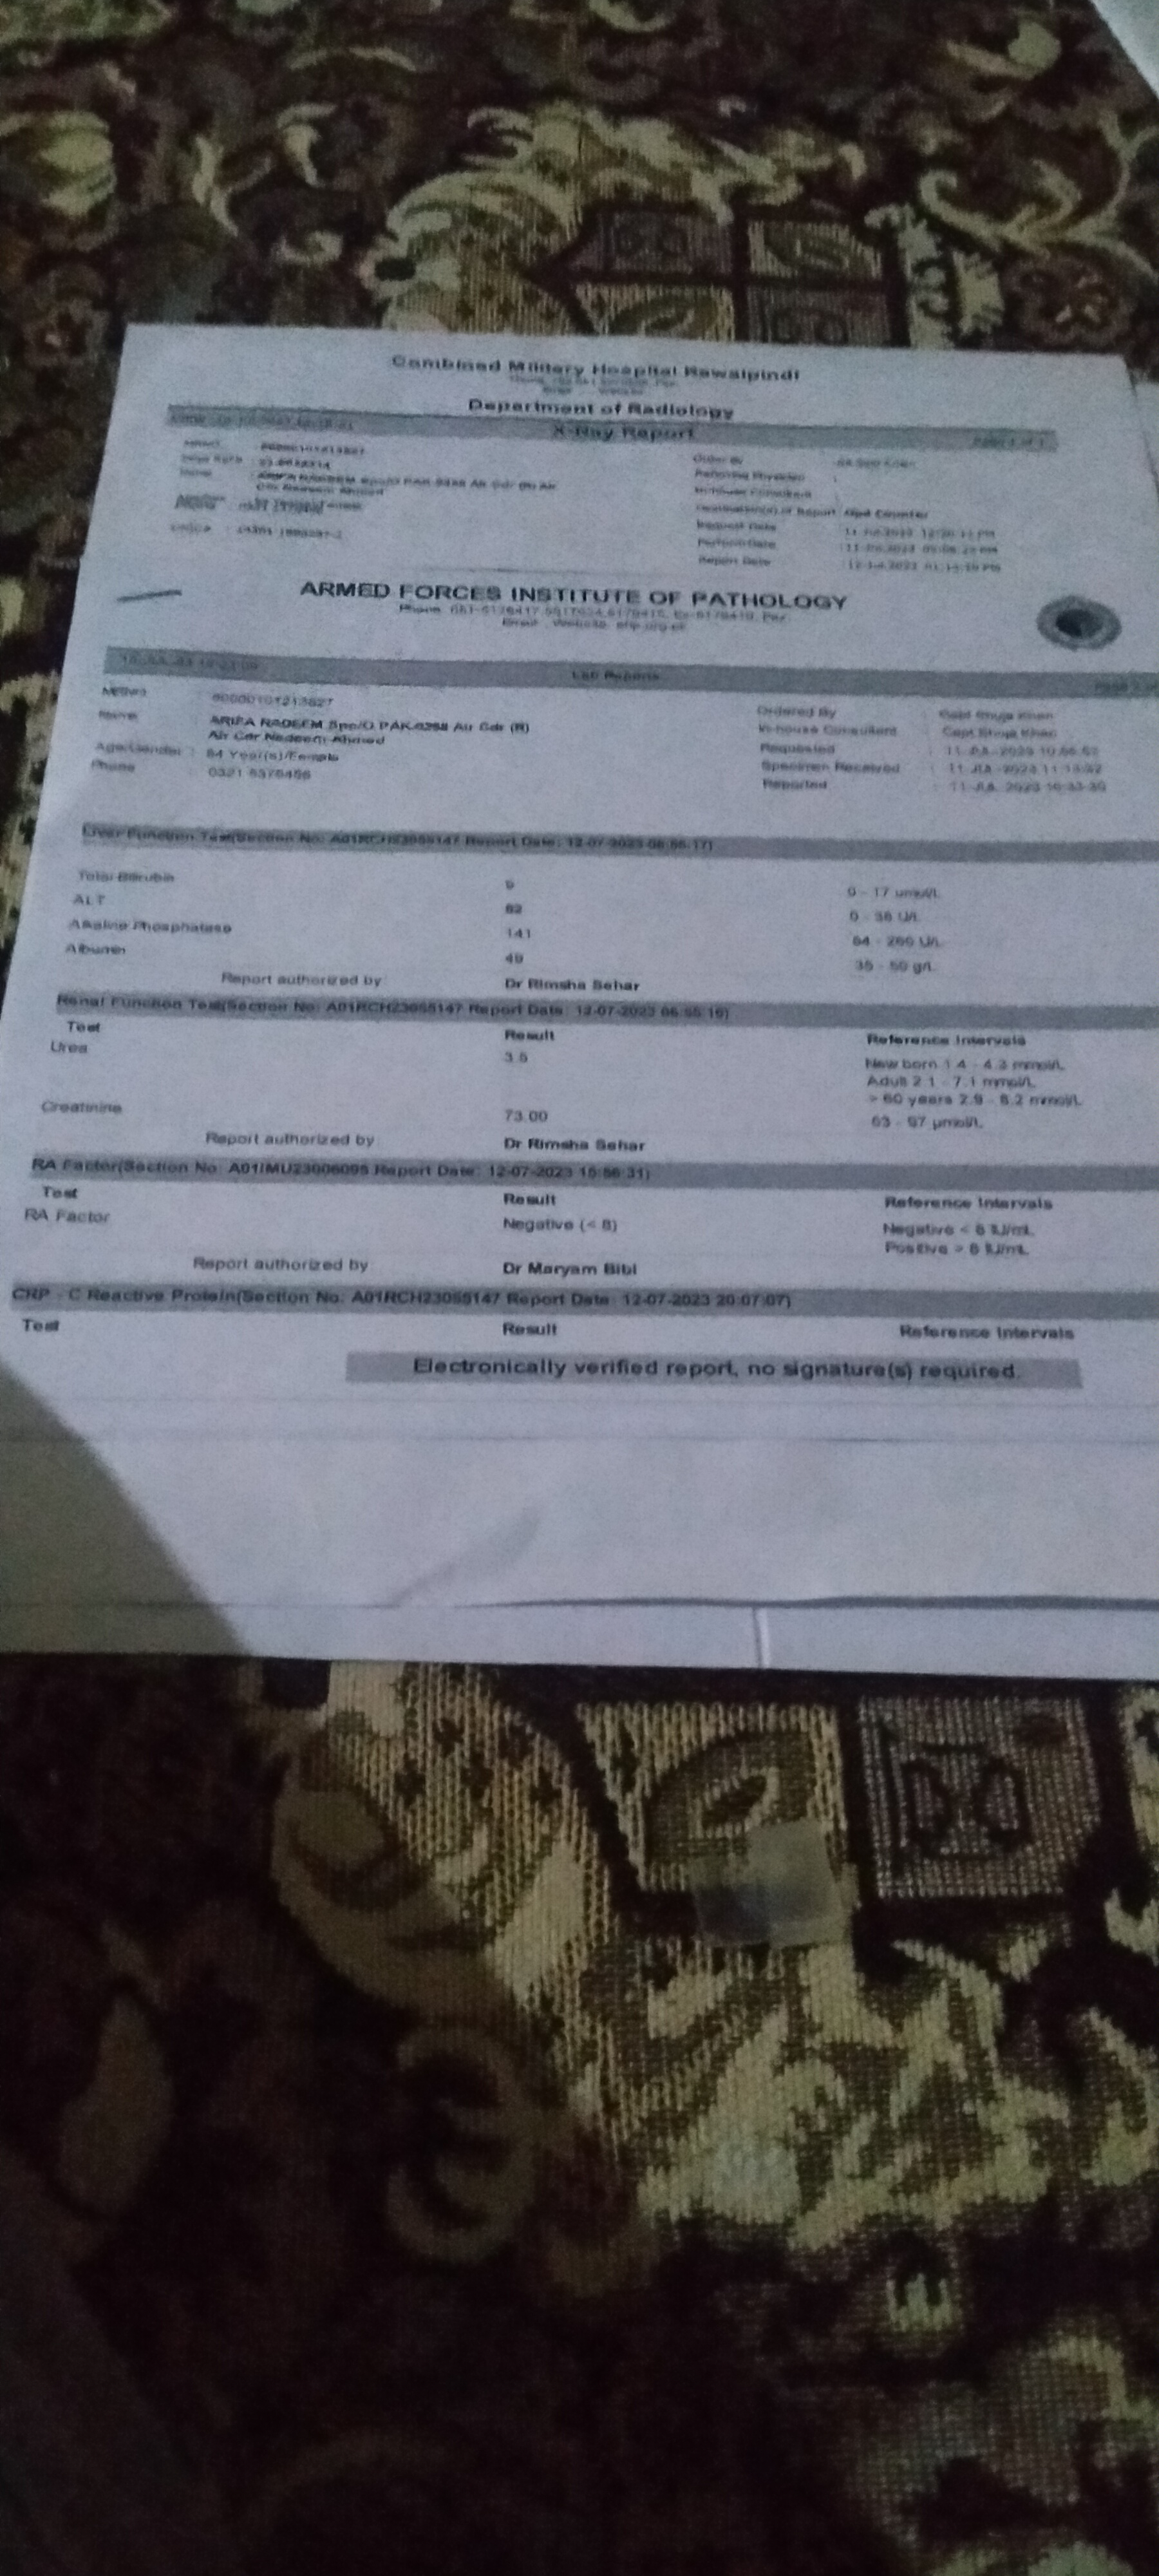report: (10, 808, 1159, 1410)
